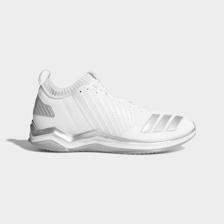Feet: (47, 55, 205, 161)
